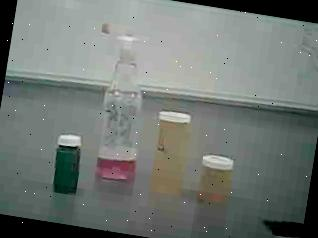Bottle A: (144, 102, 200, 199)
Bottle B: (193, 146, 242, 209)
Bottle C: (44, 129, 93, 202)
hazard: (78, 11, 165, 189)
